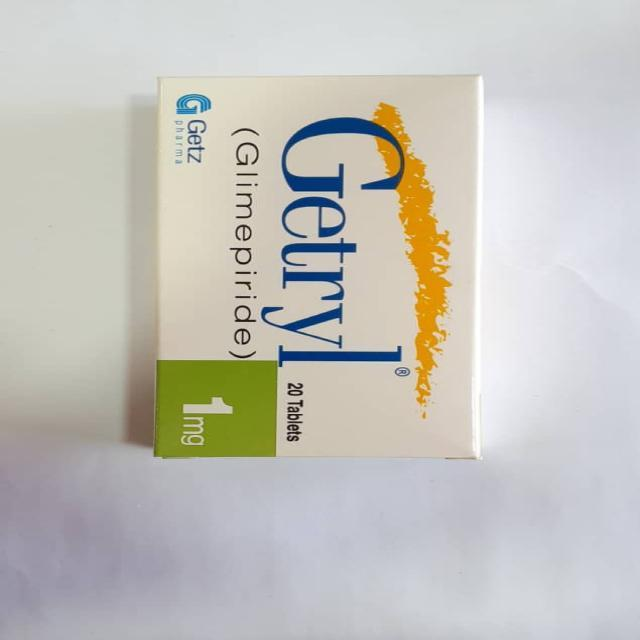drug-name: (260, 104, 406, 364)
